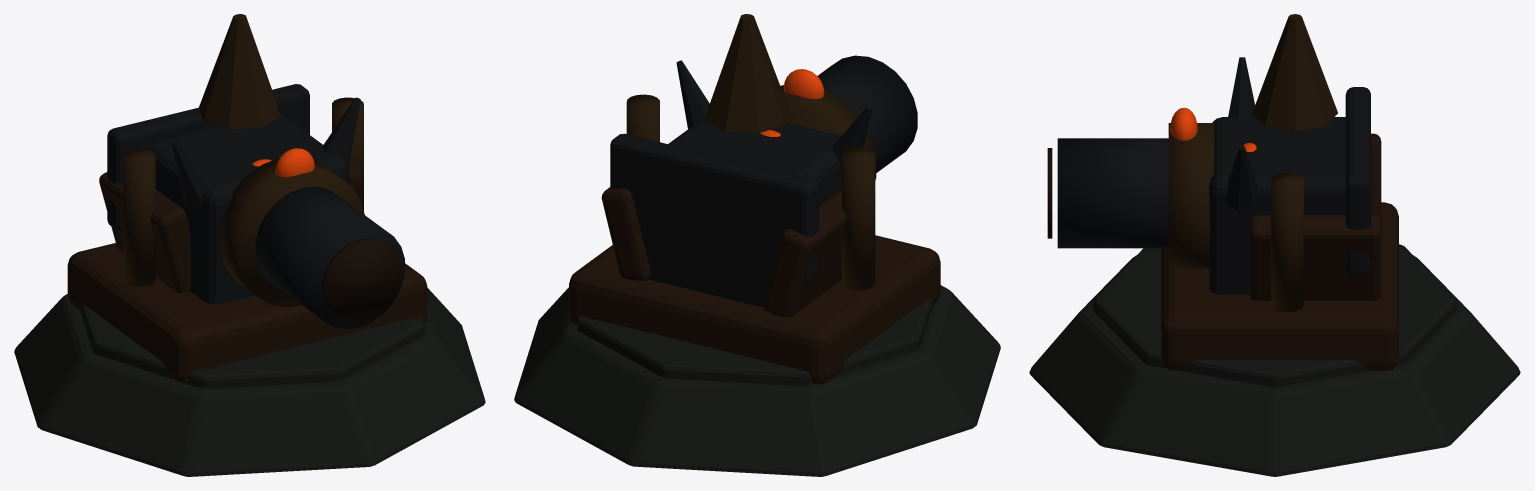
Rendered from TowerChaos3_pose.obj.
The picture shows the model from 3 angles, left to right: view 1: azimuth 30°, elevation 25°; view 2: azimuth 150°, elevation 25°; view 3: azimuth 270°, elevation 25°; orthographic projection. The views are drawn at different scales.
Visible parts, largest first — view 1: black_stone_furnace_base_lower_course, oak_fire_cradle, iron_furnace_jacket, black_stone_furnace_base_upper_course, iron_blast_barrel, bronze_blast_collar, apex_fire_chimney, black_fire_mouth, iron_furnace_shield, bronze_pressure_pipe, oak_bellows_arm, iron_heat_fin (+3 smaller); view 2: black_stone_furnace_base_lower_course, oak_fire_cradle, iron_furnace_shield, iron_furnace_jacket, black_stone_furnace_base_upper_course, apex_fire_chimney, iron_blast_barrel, oak_bellows_arm, bronze_pressure_pipe, oak_bellows_arm.001, bronze_blast_collar, bronze_pressure_pipe.001 (+3 smaller); view 3: black_stone_furnace_base_lower_course, oak_fire_cradle, black_stone_furnace_base_upper_course, iron_furnace_jacket, iron_blast_barrel, oak_bellows_arm.001, apex_fire_chimney, bronze_blast_collar, bronze_pressure_pipe.001, iron_furnace_shield, iron_heat_fin.001, iron_heat_fin (+3 smaller).
Part boxes in pixels (x1,y1,x2,y2): black_stone_furnace_base_lower_course: (14, 288, 485, 476); oak_fire_cradle: (67, 243, 427, 383); iron_furnace_jacket: (147, 113, 349, 304); black_stone_furnace_base_upper_course: (79, 304, 424, 388); iron_blast_barrel: (255, 186, 404, 329); bronze_blast_collar: (220, 157, 364, 307); apex_fire_chimney: (199, 14, 280, 129); black_fire_mouth: (322, 238, 401, 323); iron_furnace_shield: (107, 84, 309, 230); bronze_pressure_pipe: (123, 148, 155, 286); oak_bellows_arm: (99, 172, 190, 293); iron_heat_fin: (171, 141, 210, 210); black_stone_furnace_base_lower_course: (514, 285, 1000, 476); oak_fire_cradle: (569, 235, 940, 384); iron_furnace_shield: (610, 133, 819, 285); iron_furnace_jacket: (644, 120, 841, 307); black_stone_furnace_base_upper_course: (577, 299, 933, 385); apex_fire_chimney: (705, 14, 789, 133); iron_blast_barrel: (817, 55, 917, 172); oak_bellows_arm: (763, 189, 847, 317); bronze_pressure_pipe: (842, 147, 875, 290); oak_bellows_arm.001: (601, 187, 650, 281); bronze_blast_collar: (780, 85, 876, 180); bronze_pressure_pipe.001: (626, 94, 659, 141); black_stone_furnace_base_lower_course: (1029, 255, 1520, 476); oak_fire_cradle: (1161, 202, 1398, 370); black_stone_furnace_base_upper_course: (1093, 244, 1456, 386); iron_furnace_jacket: (1209, 117, 1345, 294); iron_blast_barrel: (1057, 138, 1168, 248); oak_bellows_arm.001: (1249, 215, 1381, 300); apex_fire_chimney: (1252, 14, 1337, 131); bronze_blast_collar: (1168, 123, 1214, 268); bronze_pressure_pipe.001: (1271, 172, 1303, 311); iron_furnace_shield: (1345, 87, 1370, 276); iron_heat_fin.001: (1225, 145, 1257, 210); iron_heat_fin: (1228, 57, 1255, 119).
Size of the model in its own units: 1.94 by 1.56 by 1.94.
